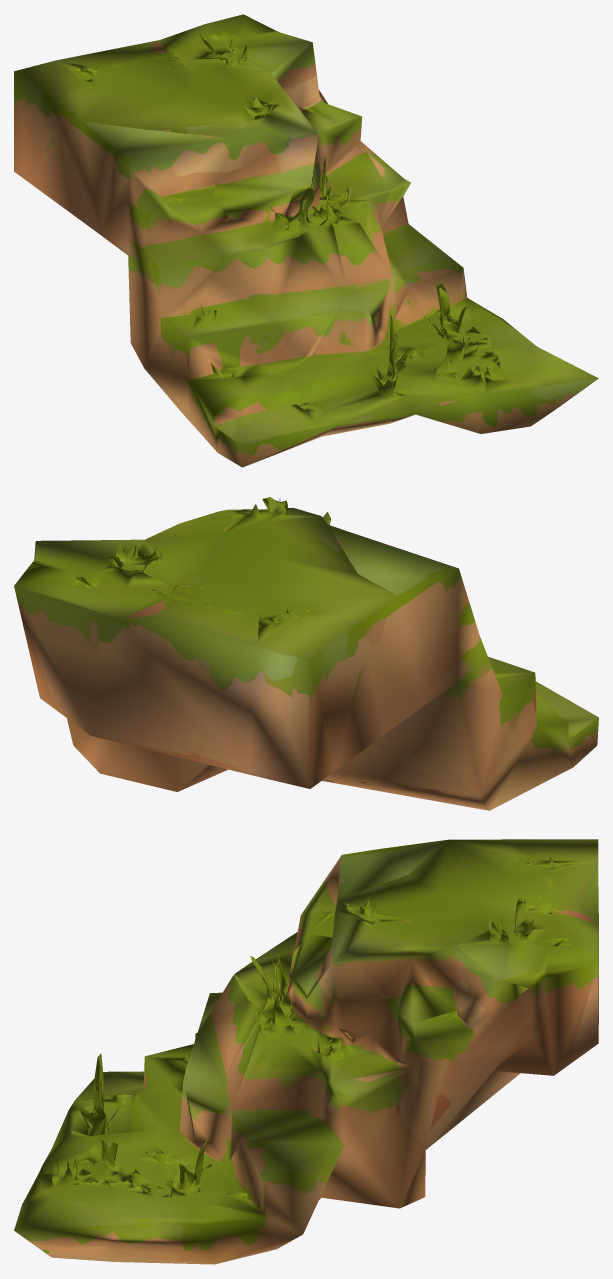
File: stairs_grass.glb
3 views of the same model, one above another, from view 1: azimuth 30°, elevation 25°; view 2: azimuth 150°, elevation 25°; view 3: azimuth 270°, elevation 25° (orthographic). The views are drawn at different scales.
Parts seen in each view (by area): view 1: tripo_node_420f56a0-c426-43c6-b429-0ce5e7d72413; view 2: tripo_node_420f56a0-c426-43c6-b429-0ce5e7d72413; view 3: tripo_node_420f56a0-c426-43c6-b429-0ce5e7d72413.
Boxes of the visible parts, x1,y1,x2,y2 form: tripo_node_420f56a0-c426-43c6-b429-0ce5e7d72413: (14,14,598,467); tripo_node_420f56a0-c426-43c6-b429-0ce5e7d72413: (14,497,598,810); tripo_node_420f56a0-c426-43c6-b429-0ce5e7d72413: (14,839,598,1264).
Bounding box in the file's own units: 0.7089 × 0.5408 × 0.9991.
Materials: 1 (1 with a texture image).
